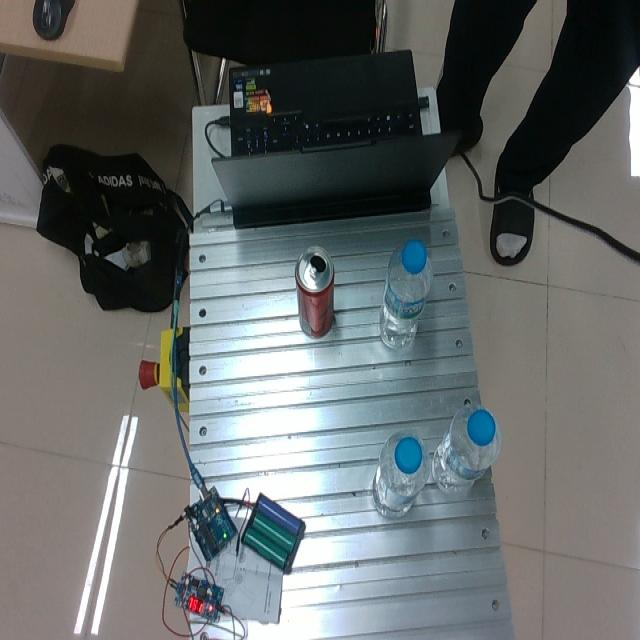coca: (294, 244, 335, 339)
lavie: (431, 404, 501, 492), (377, 240, 432, 351), (371, 430, 429, 518)
